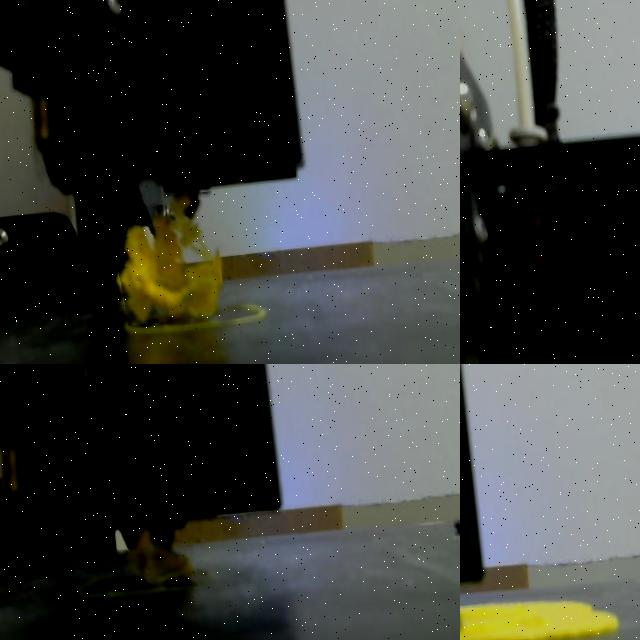spaghetti: (119, 192, 223, 323), (126, 542, 198, 594)
